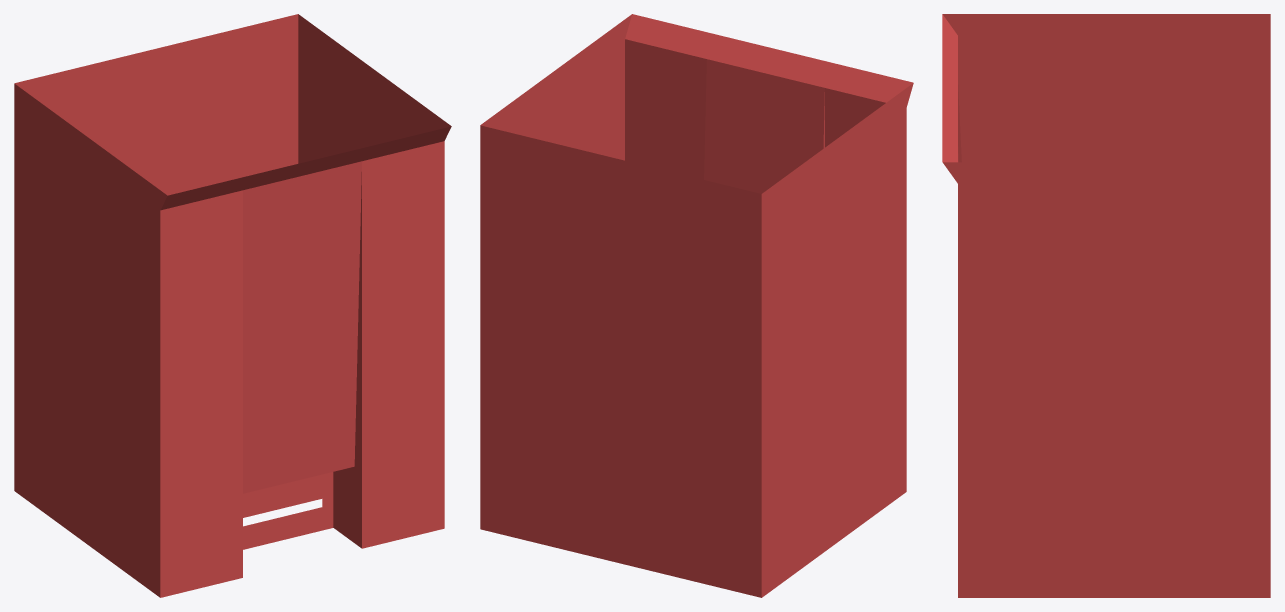
The model's file is original_4.obj.
The picture shows the model from 3 angles, left to right: view 1: azimuth 30°, elevation 25°; view 2: azimuth 150°, elevation 25°; view 3: azimuth 270°, elevation 25°; orthographic projection. The views are drawn at different scales.
Visible parts, largest first — view 1: #ID25; view 2: #ID25; view 3: #ID25.
Part boxes in pixels (x1,y1,x2,y2): #ID25: (14,14,451,597); #ID25: (480,14,913,597); #ID25: (942,14,1270,597).
Bounding box in the file's own units: 1.02 × 1.4 × 0.9552.
